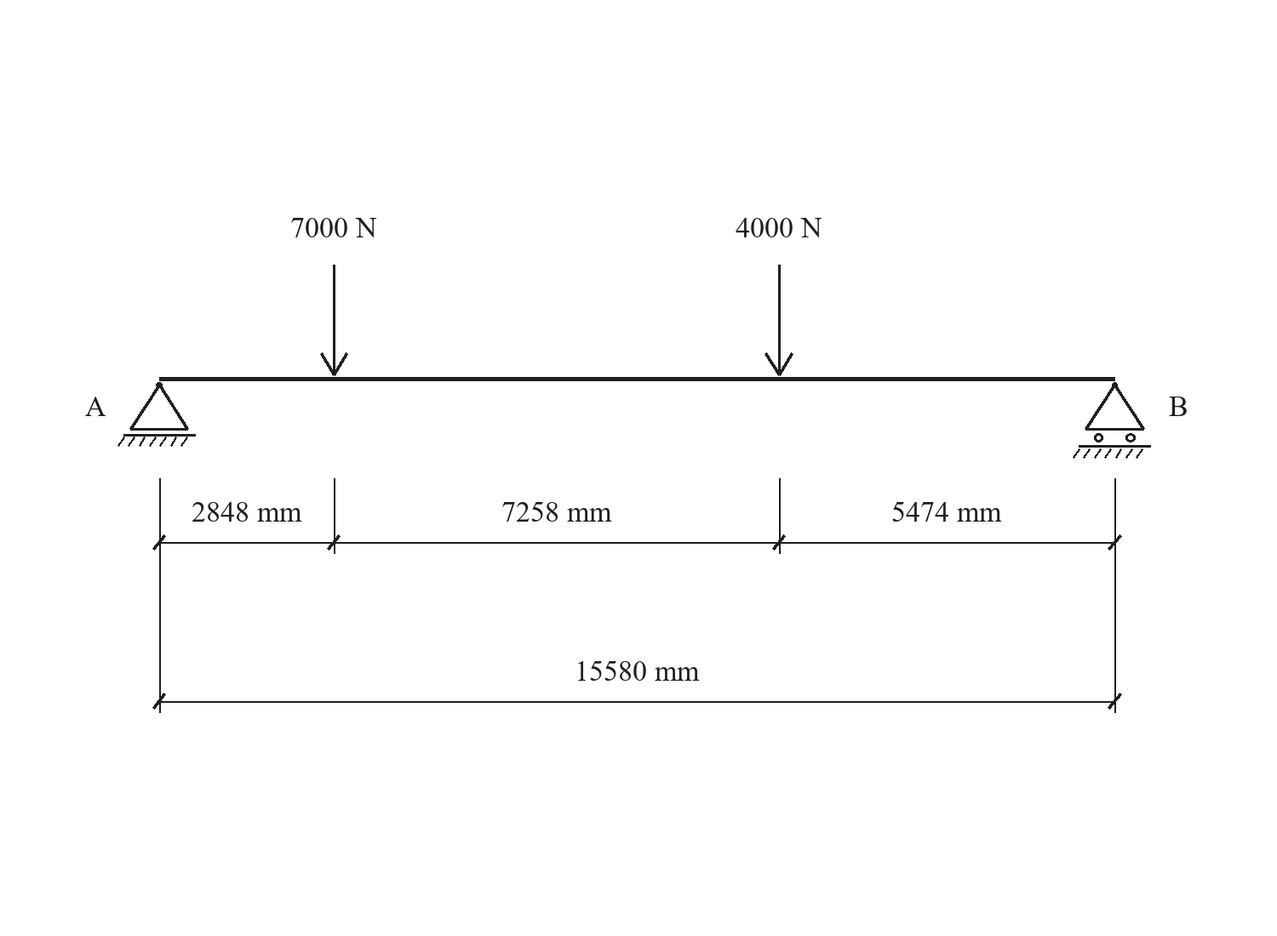pin_support: (117, 382, 196, 447)
point_load: (764, 265, 793, 376), (320, 265, 348, 376)
roller_support: (1073, 382, 1151, 459)
